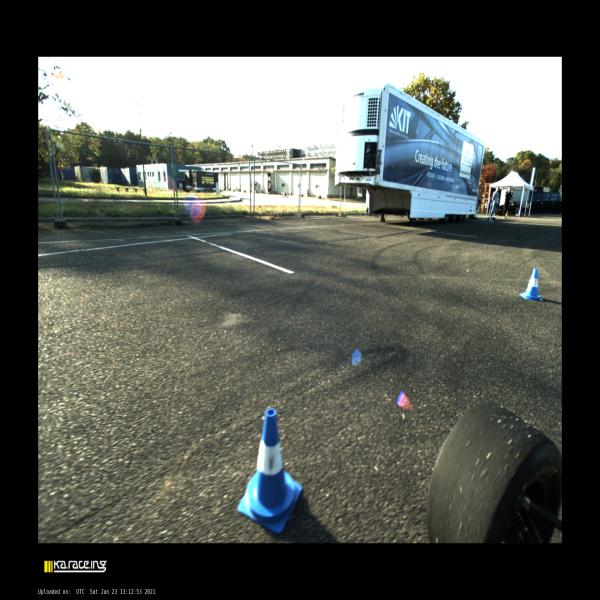blue_cone: (236, 406, 303, 534), (518, 267, 544, 302)
